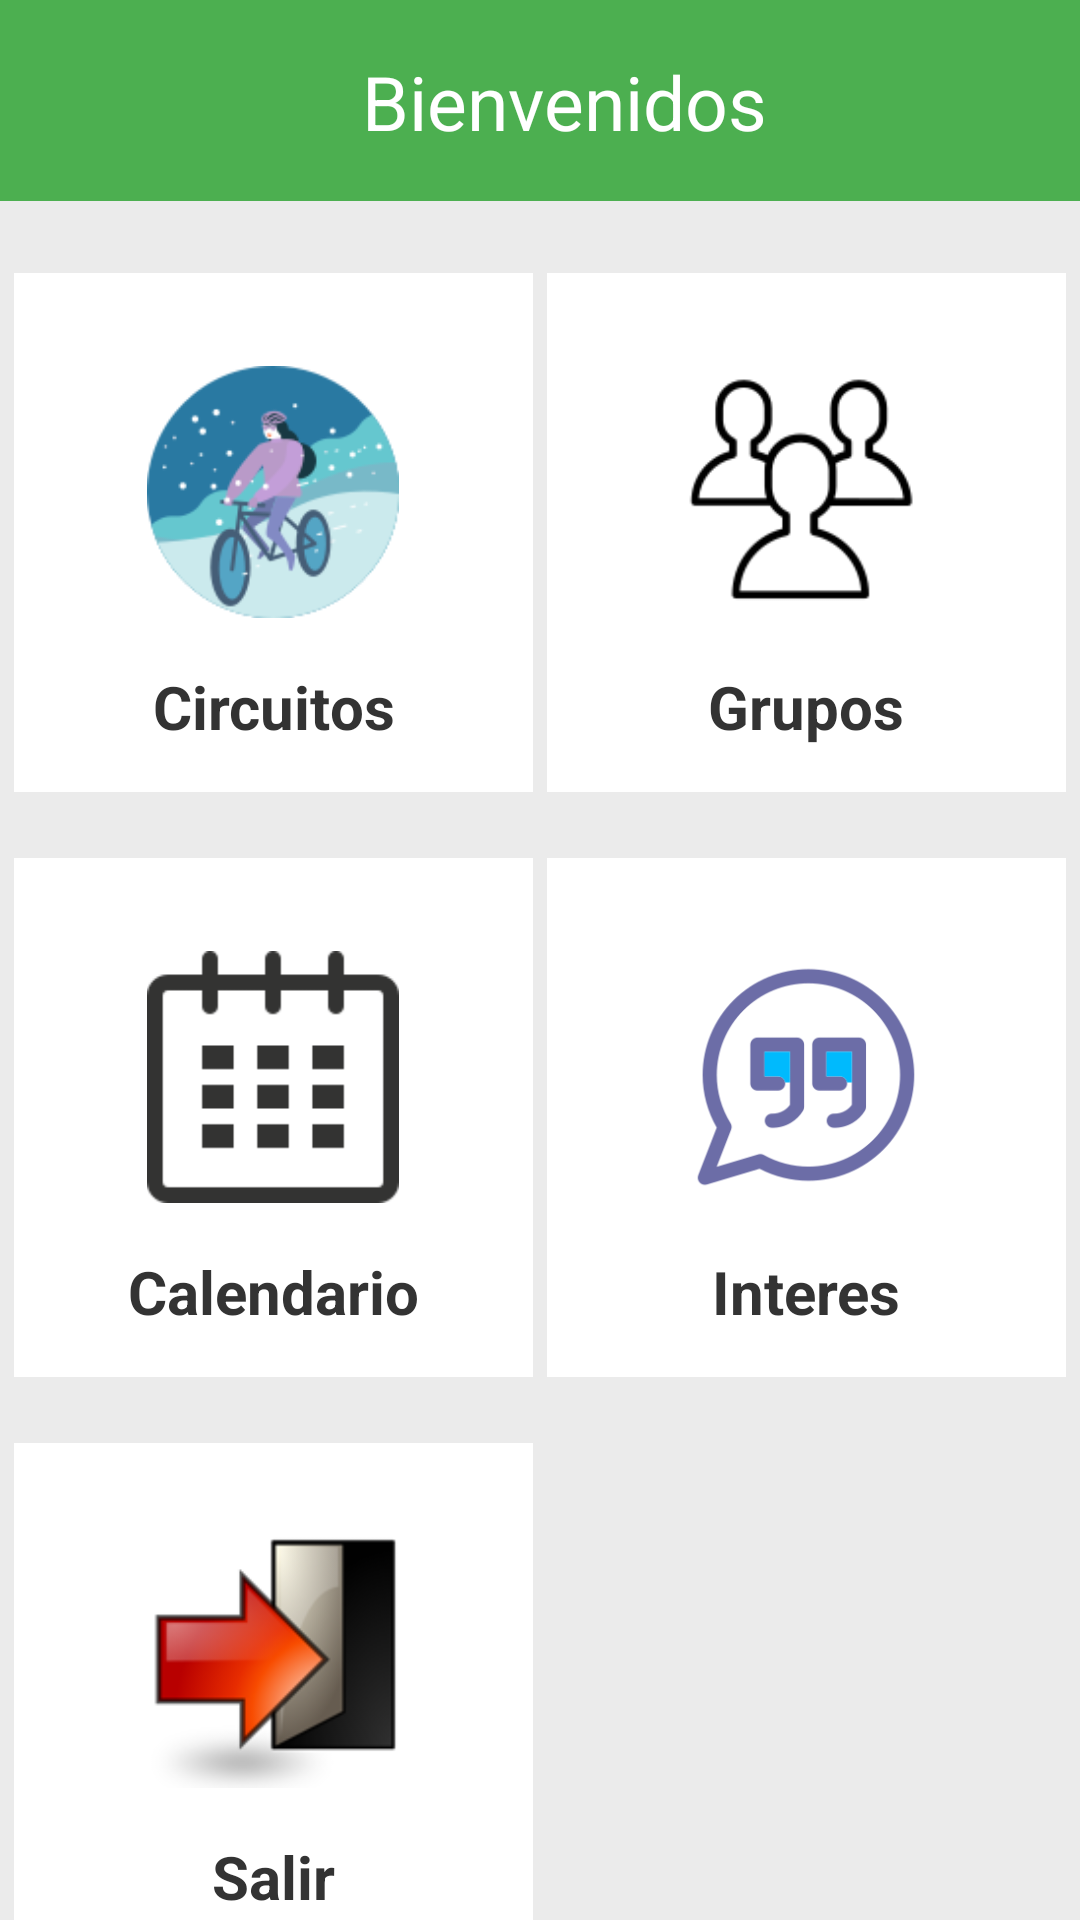

Icons on this 1080px x 1920px Android screen, each with its box as (x1, y1, x2, y2):
bicycle cycling riding sport: (147, 366, 399, 618)
group people person: (690, 379, 913, 599)
